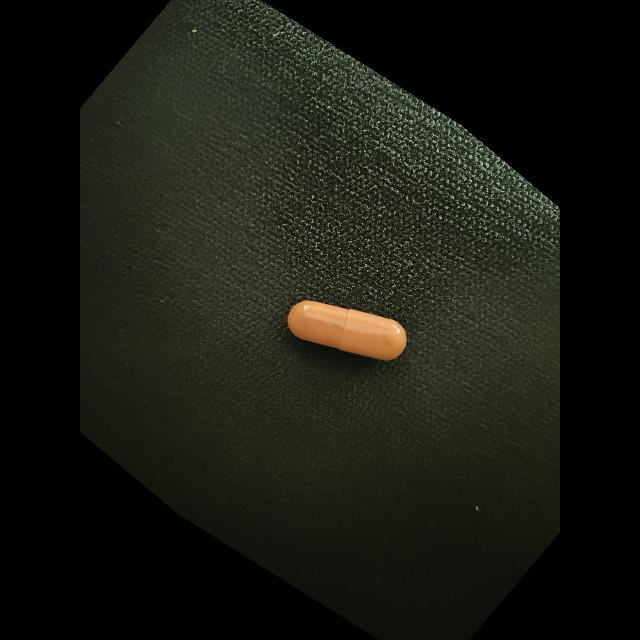Intact Capsule: (287, 300, 407, 361)
